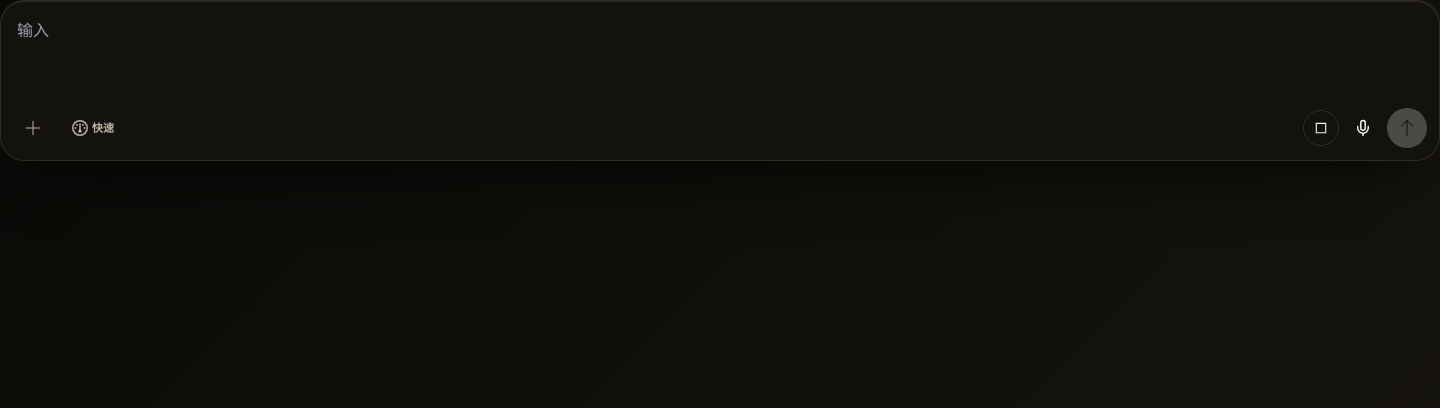
Test: AgentComposer thinking-depth picker › stays usable while a task is running — switching only affects the next run
Click the button with aria-label "思考深度: 快速" at {"x": 93, "y": 128}, box [61,108,125,148]
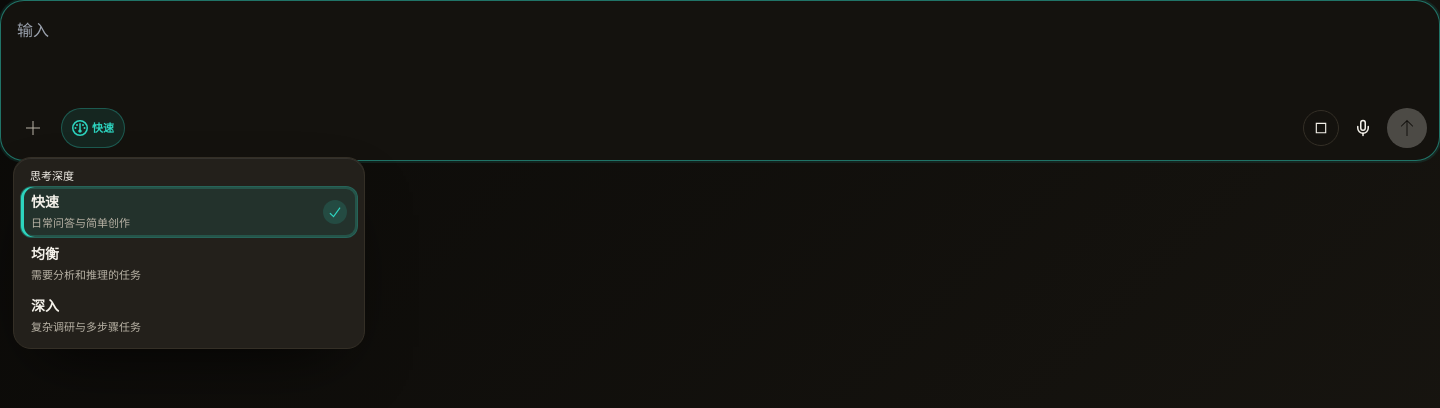
Now the menu "思考深度" is shown, box [13,157,365,349]
